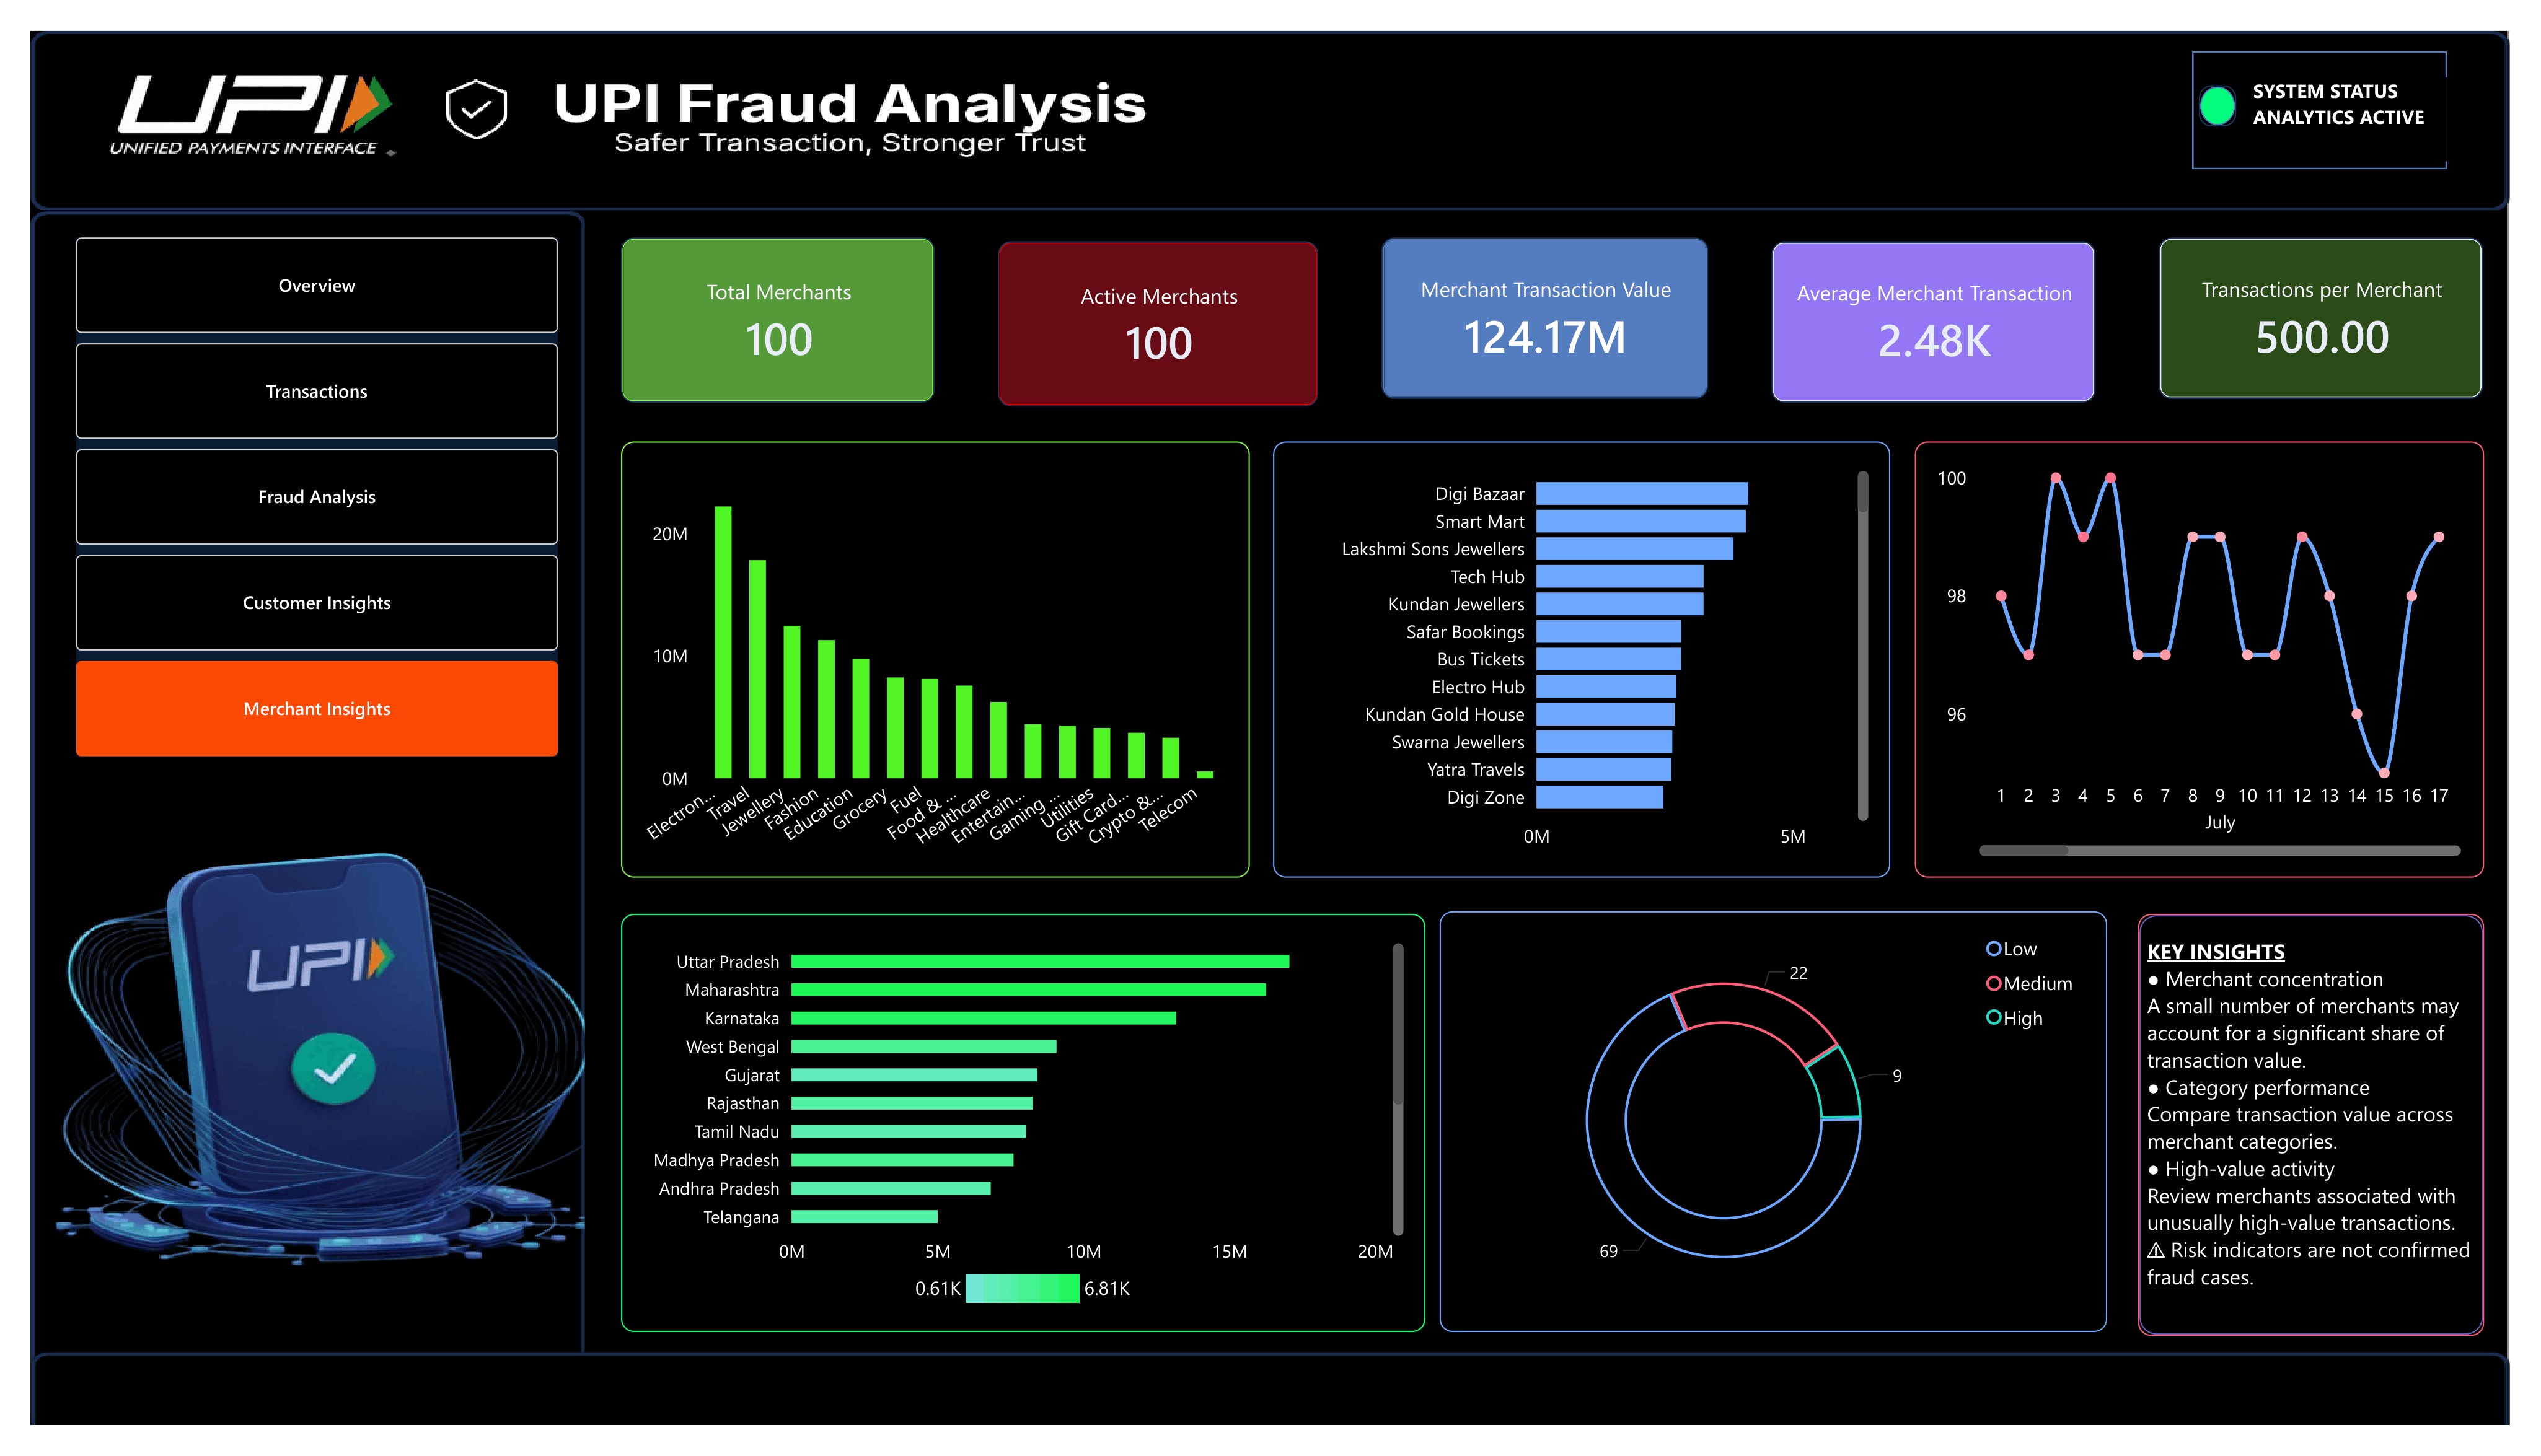

Layout of this report page (visuals, bound fields, positions):
{"tool":"powerbi","page":{"name":"Merchant Insights","canvas":[1920,1080],"ordinal":4},"visuals":[{"type":"cardVisual","fields":{"Data":["Customers.Total Merchants"]},"box":[456.5,160.2,242.9,128.1],"z":0,"group":"g1"},{"type":"clusteredBarChart","fields":{"Category":["Merchants.State"],"Y":["Customers.Merchant Transaction Value"]},"box":[456.6,683.9,623.3,324.6],"z":0},{"type":"cardVisual","fields":{"Data":["Customers.Active Merchants"]},"box":[748.2,162.9,248.3,128.1],"z":1000,"group":"g1"},{"type":"clusteredColumnChart","fields":{"Category":["Merchants.MerchantCategory"],"Y":["Customers.Merchant Transaction Value"]},"box":[456.6,318.1,486.9,337.6],"z":1000},{"type":"cardVisual","fields":{"Data":["Customers.Average Merchant Transaction"]},"box":[1347.5,162.9,250.9,125.5],"z":2000,"group":"g1"},{"type":"clusteredBarChart","fields":{"Category":["Merchants.MerchantName"],"Y":["Customers.Merchant Transaction Value"]},"box":[962,318.1,478.3,337.6],"z":2000},{"type":"cardVisual","fields":{"Data":["Customers.Merchant Transaction Value"]},"box":[1045.2,160.2,253.6,125.5],"z":3000,"group":"g1"},{"type":"lineChart","fields":{"Category":["Transactions.TransactionDate.Variation.Date Hierarchy.Month","Transactions.TransactionDate.Variation.Date Hierarchy.Day"],"Y":["Customers.Active Merchants"]},"box":[1458.6,318.1,441.5,337.6],"z":3000},{"type":"cardVisual","fields":{"Data":["Customers.Transactions per Merchant"]},"box":[1647.2,160.2,250.9,125.5],"z":4000,"group":"g1"},{"type":"shape","box":[1631.8,683.9,268.4,326.8],"z":4000},{"type":"pageNavigator","box":[34.7,160.2,373.8,402],"z":5000},{"type":"textbox","box":[1639.2,702.1,250.9,288.3],"z":6000},{"type":"group","id":"g1","title":"Group 1","box":[456.5,160.2,1441.6,130.8],"z":7000},{"type":"donutChart","fields":{"Category":["Merchants.RiskCategory"],"Y":["Customers.Total Merchants"]},"box":[1090.7,681.7,517.2,326.8],"z":8000},{"type":"shape","box":[1673.9,16.3,197.3,90.5],"z":8001},{"type":"textbox","box":[1721,36.2,150.2,65.1],"z":8002},{"type":"shape","box":[1679.4,41.6,29,32.6],"z":8003}]}

Visuals, with their boxes on the page's 1920x1080 design canvas (x1, y1, x2, y2). These are canvas units, not pixel positions in the 2541x1456 screenshot, which may show the page scaled, cropped or inside an application window:
cardVisual - Customers.Total Merchants: 456 160 699 288
clusteredBarChart - Merchants.State x Customers.Merchant Transaction Value: 457 684 1080 1008
cardVisual - Customers.Active Merchants: 748 163 996 291
clusteredColumnChart - Merchants.MerchantCategory x Customers.Merchant Transaction Value: 457 318 944 656
cardVisual - Customers.Average Merchant Transaction: 1348 163 1598 288
clusteredBarChart - Merchants.MerchantName x Customers.Merchant Transaction Value: 962 318 1440 656
cardVisual - Customers.Merchant Transaction Value: 1045 160 1299 286
lineChart - Transactions.TransactionDate.Variation.Date Hierarchy.Month x Transactions.TransactionDate.Variation.Date Hierarchy.Day: 1459 318 1900 656
cardVisual - Customers.Transactions per Merchant: 1647 160 1898 286
shape: 1632 684 1900 1011
pageNavigator: 35 160 408 562
textbox: 1639 702 1890 990
"Group 1" group: 456 160 1898 291
donutChart - Merchants.RiskCategory x Customers.Total Merchants: 1091 682 1608 1008
shape: 1674 16 1871 107
textbox: 1721 36 1871 101
shape: 1679 42 1708 74
